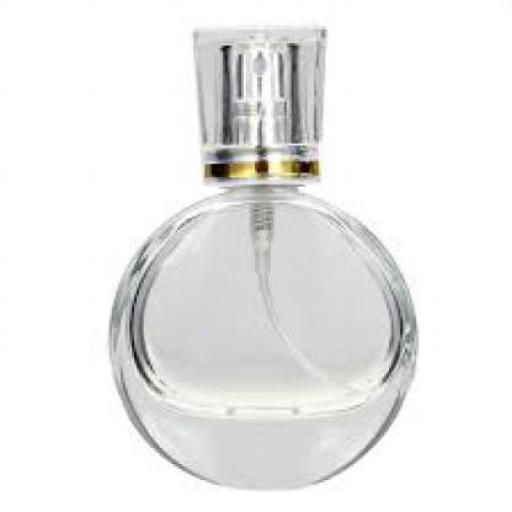glass: (107, 182, 414, 485)
metal: (221, 39, 300, 141)
plastic: (191, 25, 323, 182)
